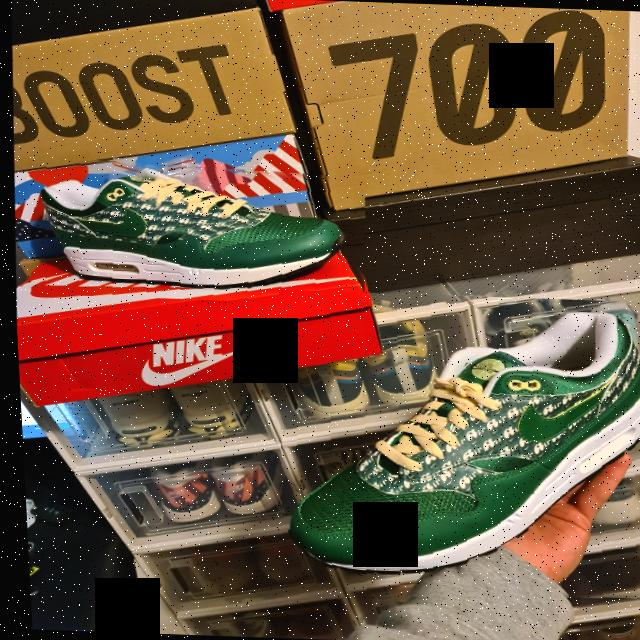shoe: (264, 289, 640, 609), (22, 156, 368, 306)
